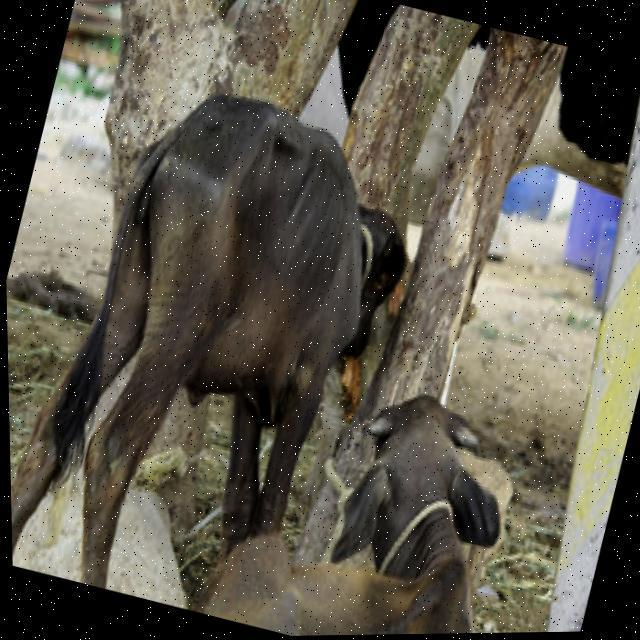Buffalo: (1, 54, 452, 640)
